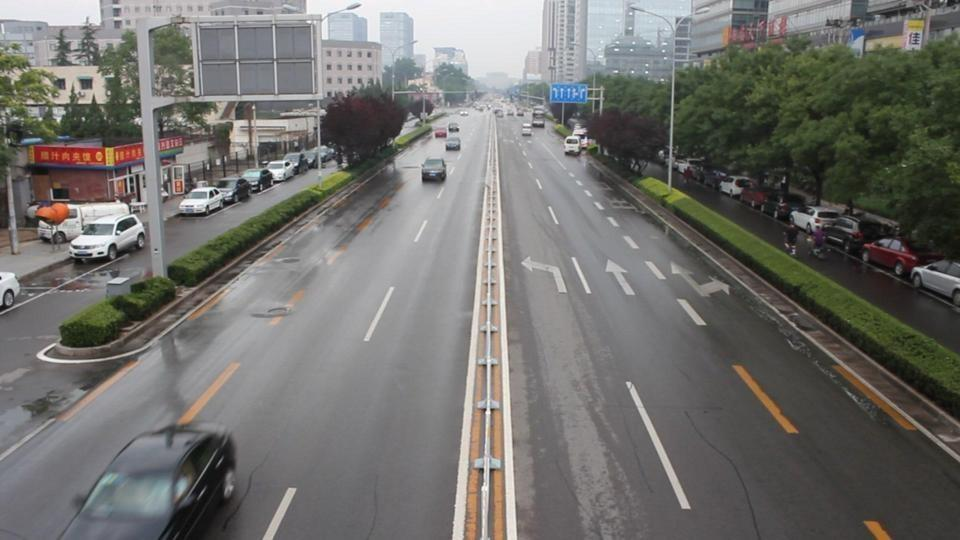car: (62, 424, 239, 539), (819, 212, 901, 258), (863, 236, 945, 281), (70, 214, 145, 261), (911, 259, 960, 311), (789, 206, 845, 236), (177, 187, 225, 216), (26, 200, 72, 224), (213, 177, 250, 205), (770, 195, 808, 221), (239, 169, 274, 192), (0, 272, 20, 310), (265, 158, 298, 181), (719, 177, 751, 199), (421, 157, 447, 182), (702, 167, 730, 190), (443, 127, 461, 148), (564, 135, 581, 156), (446, 135, 461, 151), (433, 125, 448, 138), (520, 124, 532, 136)
